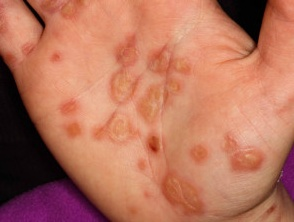SJS-TEN: (42, 6, 279, 222), (216, 128, 277, 180), (37, 0, 89, 23), (184, 140, 213, 169)
